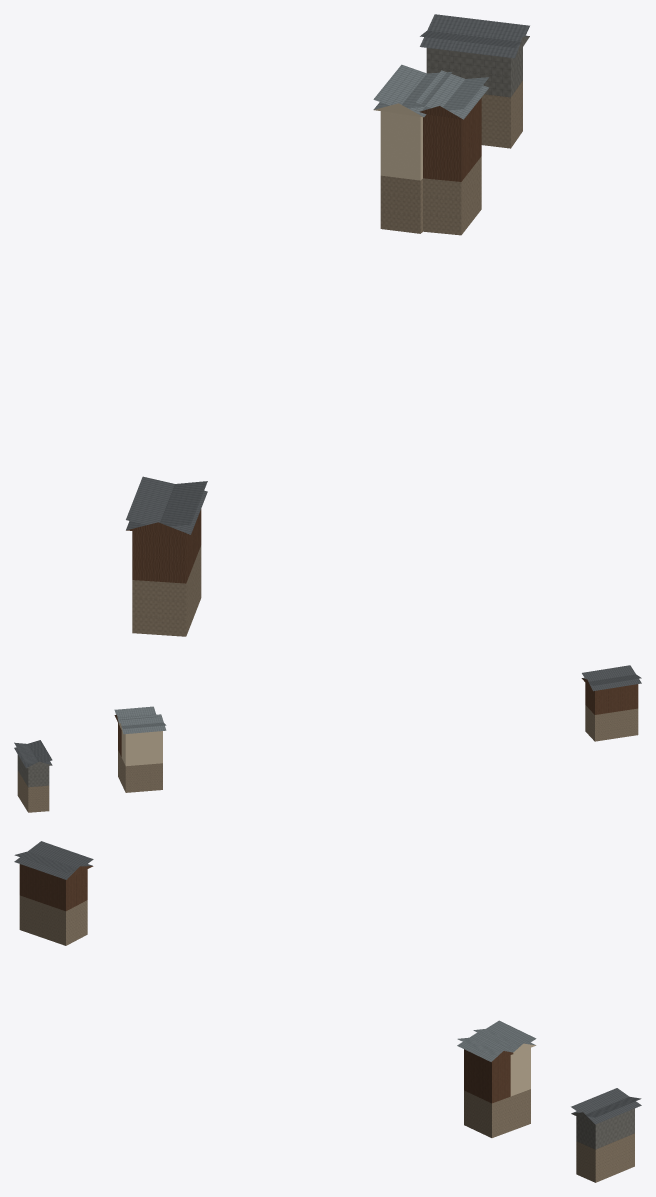
The model's file is bld_c14_36_408.gltf.
3 views of the same model, one above another, from view 1: azimuth 30°, elevation 25°; view 2: azimuth 150°, elevation 25°; view 3: azimuth 270°, elevation 25° (orthographic). The views are drawn at different scales.
Parts seen in each view (by area): view 1: bld_c14_36_408; view 2: bld_c14_36_408; view 3: bld_c14_36_408.
Boxes of the visible parts, x1,y1,x2,y2 form: bld_c14_36_408: (126,14,529,636); bld_c14_36_408: (14,665,641,812); bld_c14_36_408: (14,841,641,1182).
Size of the model in its own units: 82.99 by 13.4 by 83.51.
9 materials, 9 textured.
